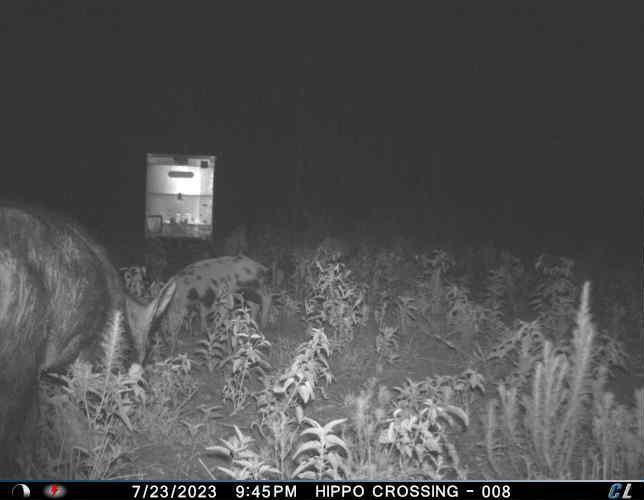Hog: (0, 195, 175, 479), (158, 254, 275, 348)
